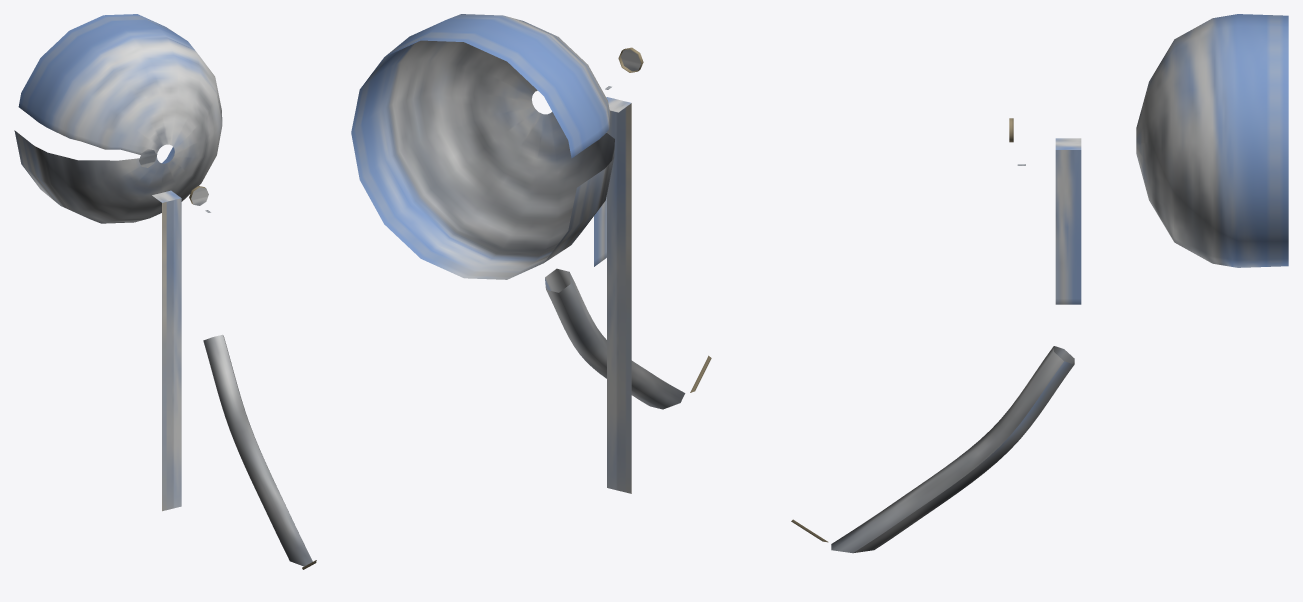
Rendered from section-2.obj.
3 views of the same model, side by side, from view 1: azimuth 30°, elevation 25°; view 2: azimuth 150°, elevation 25°; view 3: azimuth 270°, elevation 25° (orthographic). The views are drawn at different scales.
Bounding box in the file's own units: 0.3 × 0.665 × 0.6121.
